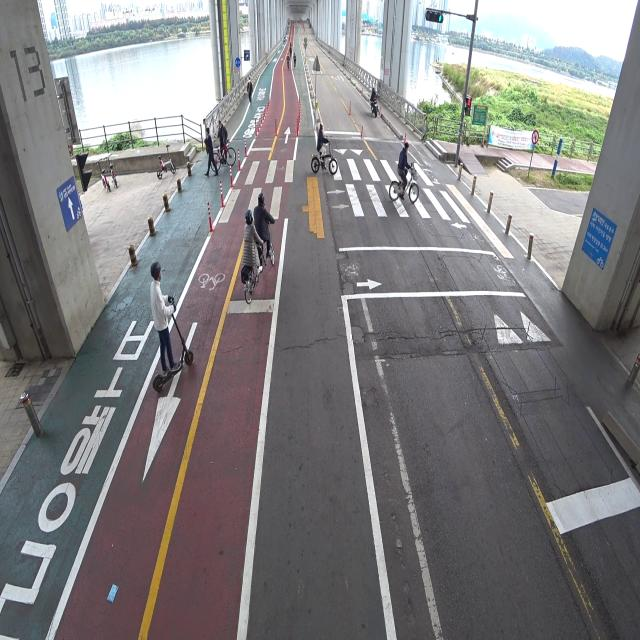Motorcycle: (369, 85, 378, 119)
